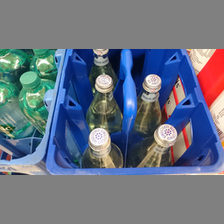water: (84, 73, 124, 130), (128, 124, 180, 166), (78, 127, 125, 169), (135, 73, 162, 131)
